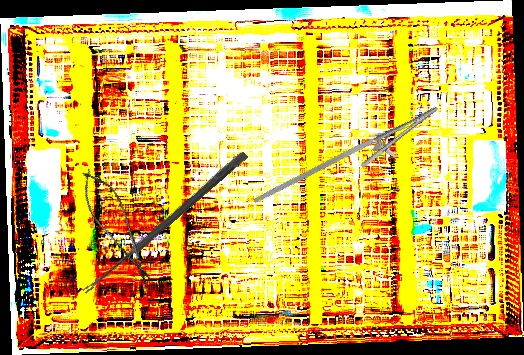Micro Scissor: (70, 162, 165, 292)
Needle Holder: (252, 84, 448, 238)
Surgical Spoon: (81, 149, 249, 297)
